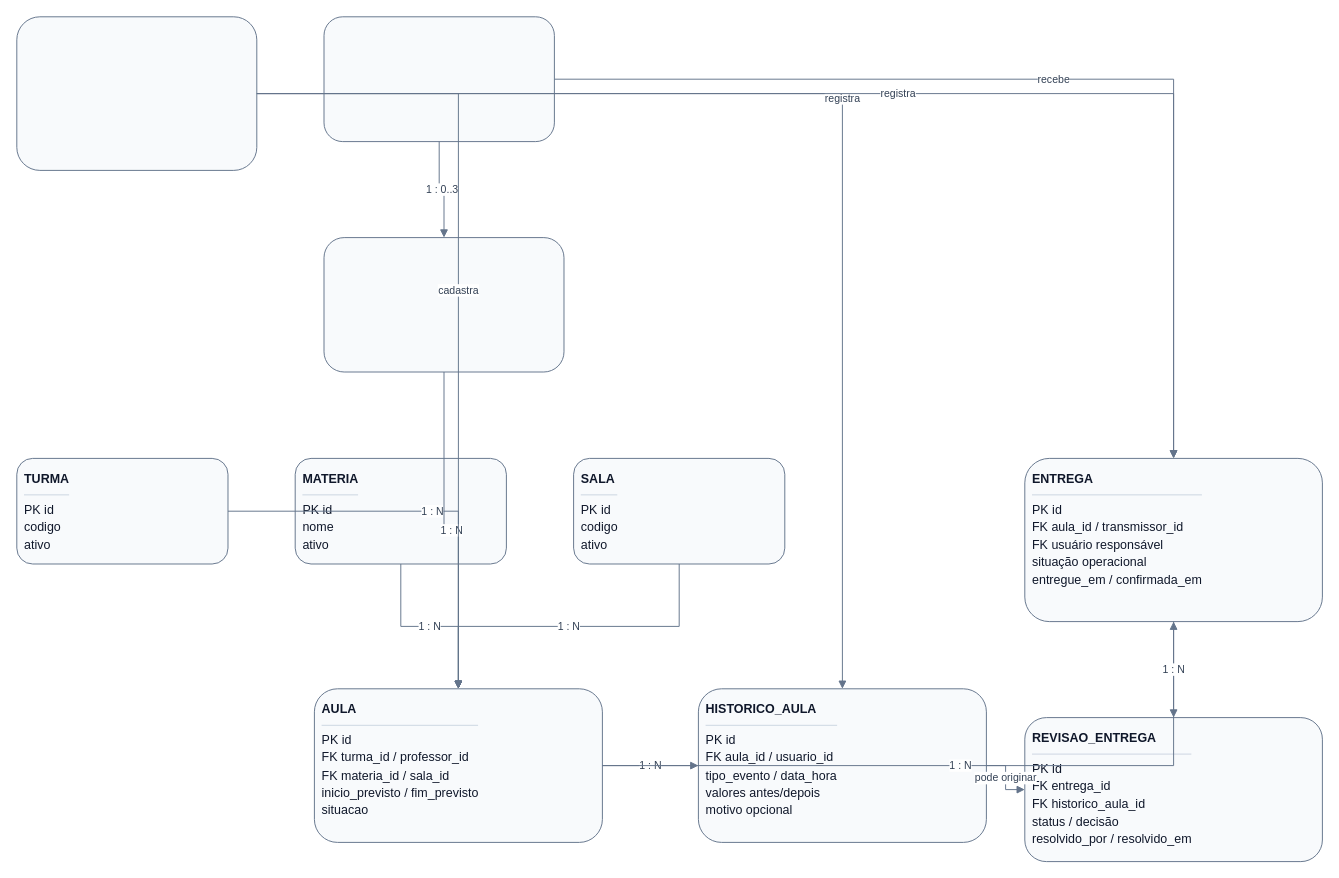
This 1339x878 diagram has some shape labels left out. Each missing label, with the centre of its shape:
"PROFESSOR PK id nome FK transmissor_id NOT NULL ativo" belongs at (443,304).
"TRANSMISSOR PK id nome telefone ativo" belongs at (438,79).
"USUARIO PK id email único senha_hash perfil=ADMINISTRADOR ativo" belongs at (136,93).
